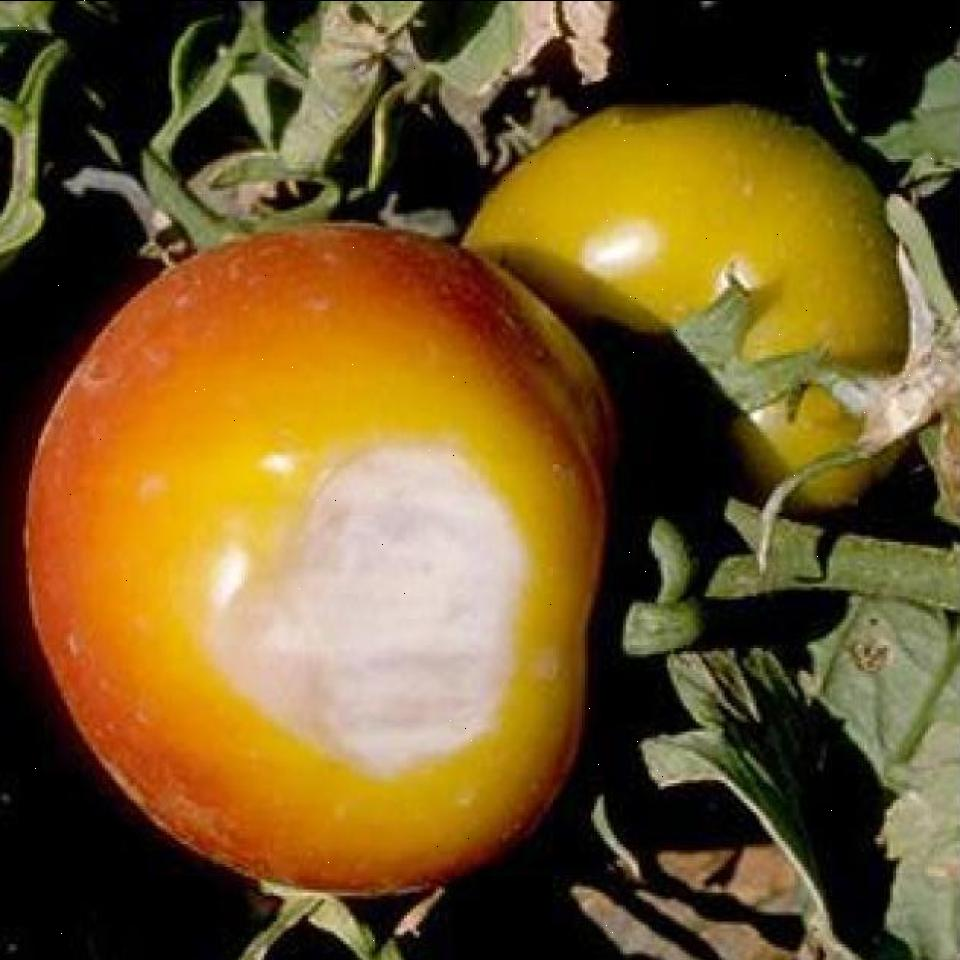Sunscald: (196, 390, 546, 810)
